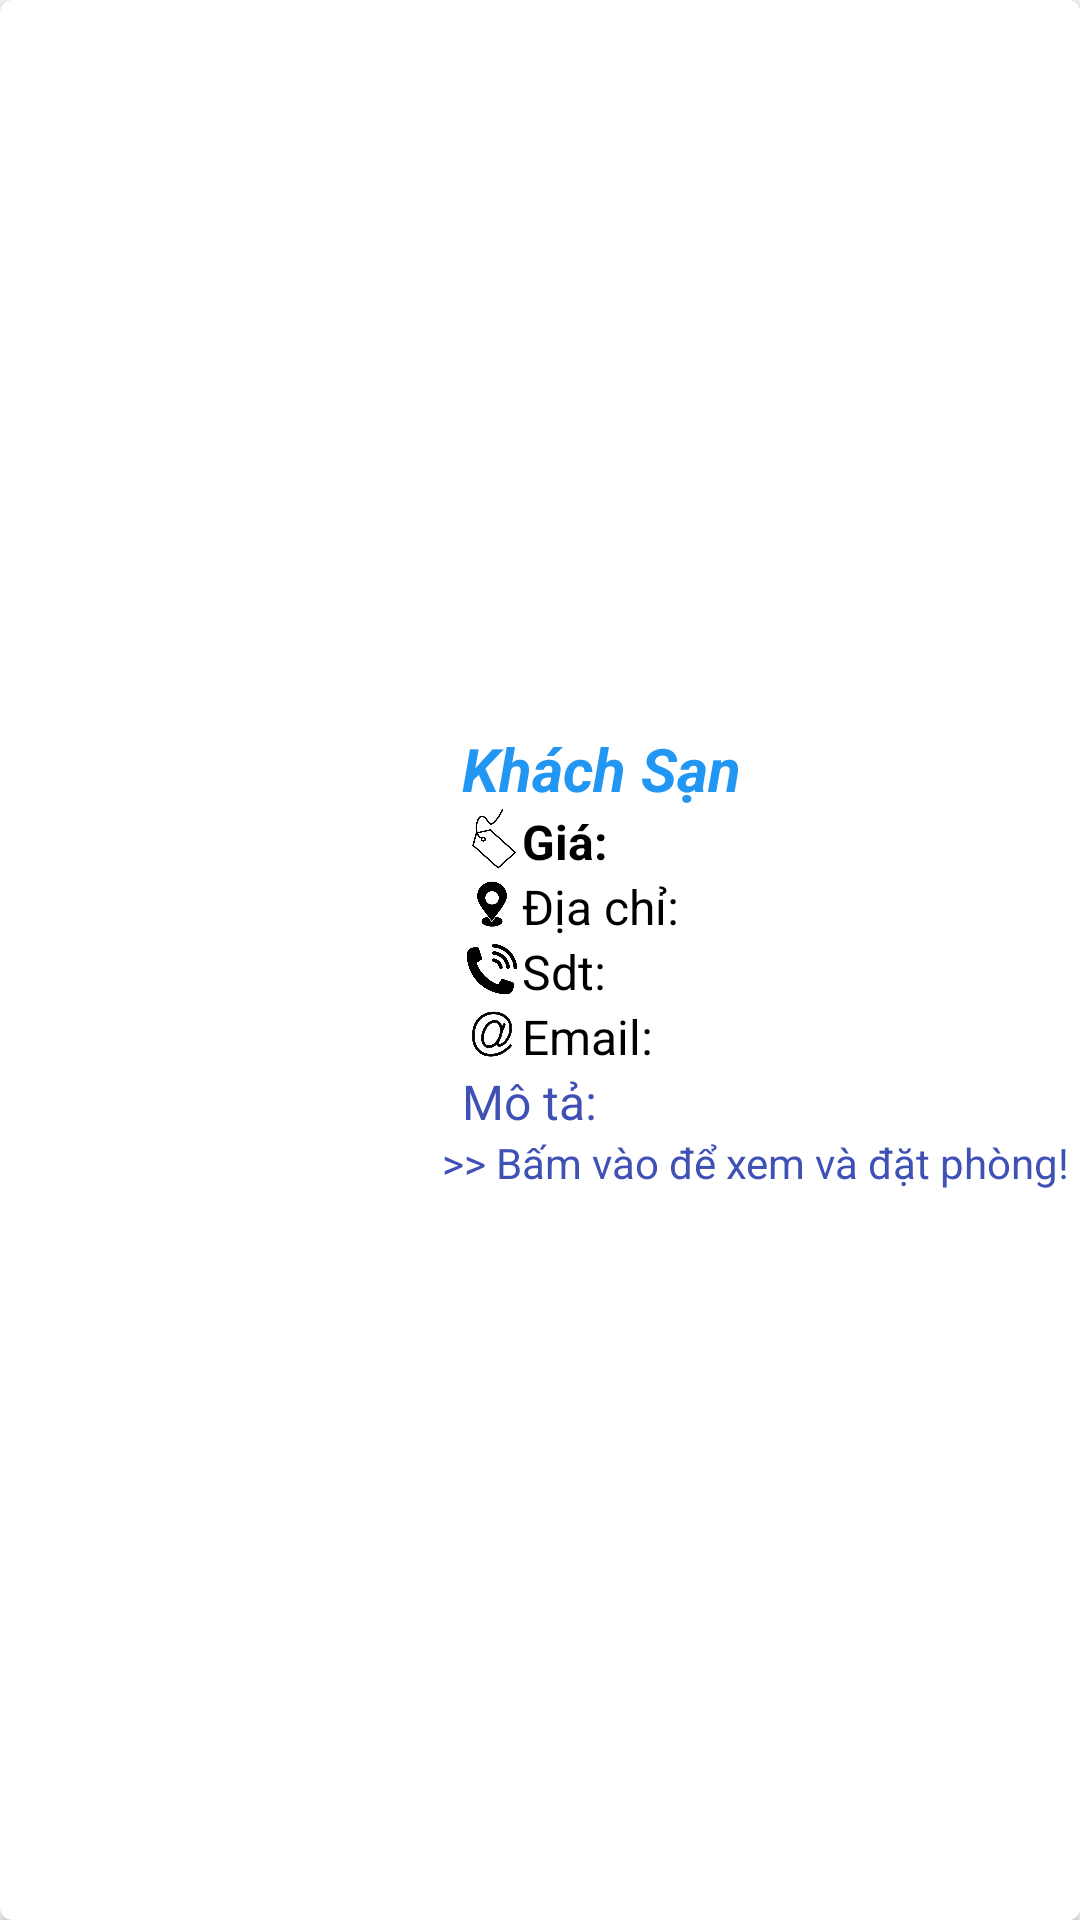

Where icons sit on this 1080 x 1920 app screen, as [x1, y1, x2, y2]:
iconadress: [477, 881, 507, 927]
iconphone: [467, 944, 517, 994]
iconprice: [472, 809, 516, 869]
